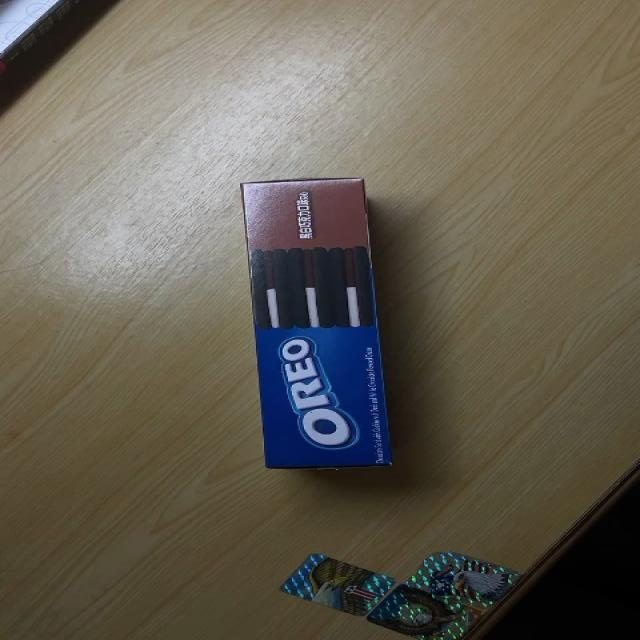Oreo: (242, 177, 388, 469)
